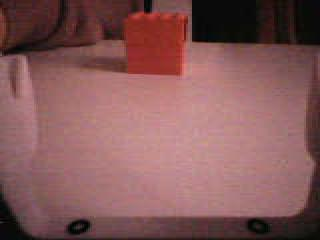legocube: (120, 10, 191, 78)
